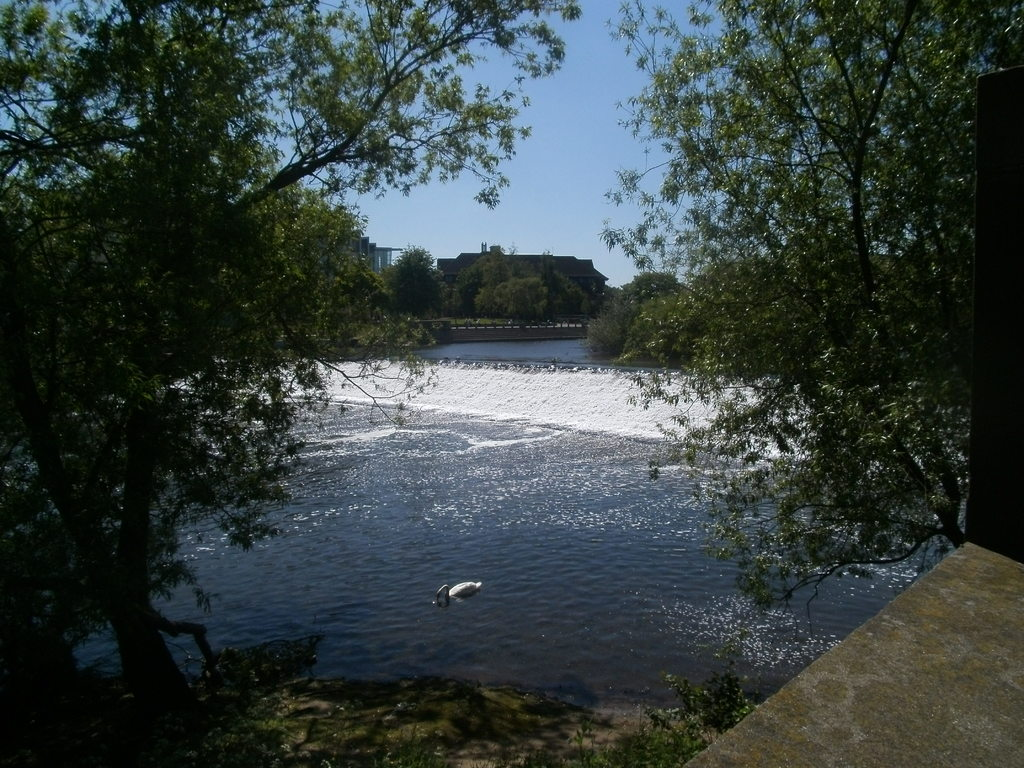Tree: (0, 0, 588, 767), (608, 19, 972, 642), (453, 251, 583, 312), (384, 241, 451, 318), (471, 279, 560, 324)
